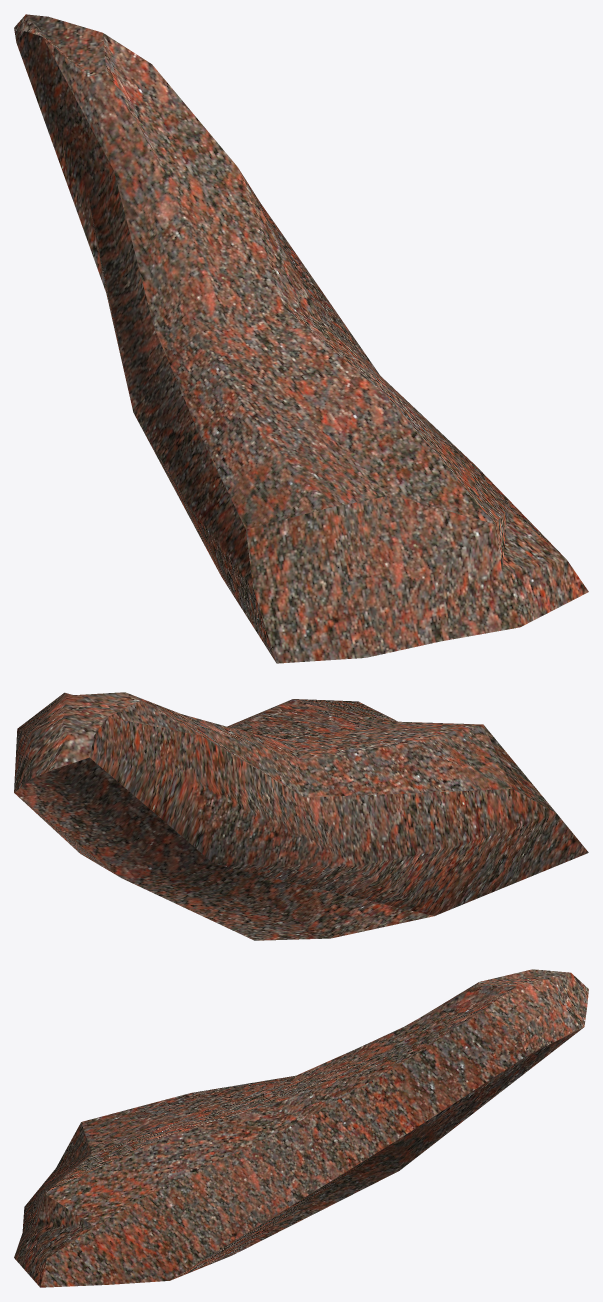
The model's file is ShapeLock_1.fbx.
3 views of the same model, one above another, from view 1: azimuth 30°, elevation 25°; view 2: azimuth 150°, elevation 25°; view 3: azimuth 270°, elevation 25° (orthographic). The views are drawn at different scales.
Parts seen in each view (by area): view 1: Box001; view 2: Box001; view 3: Box001.
Part boxes in pixels (x1,y1,x2,y2): Box001: [14, 14, 588, 663]; Box001: [14, 692, 588, 940]; Box001: [14, 969, 588, 1287].
Bounding box in the file's own units: 25.27 × 27.69 × 57.54.
